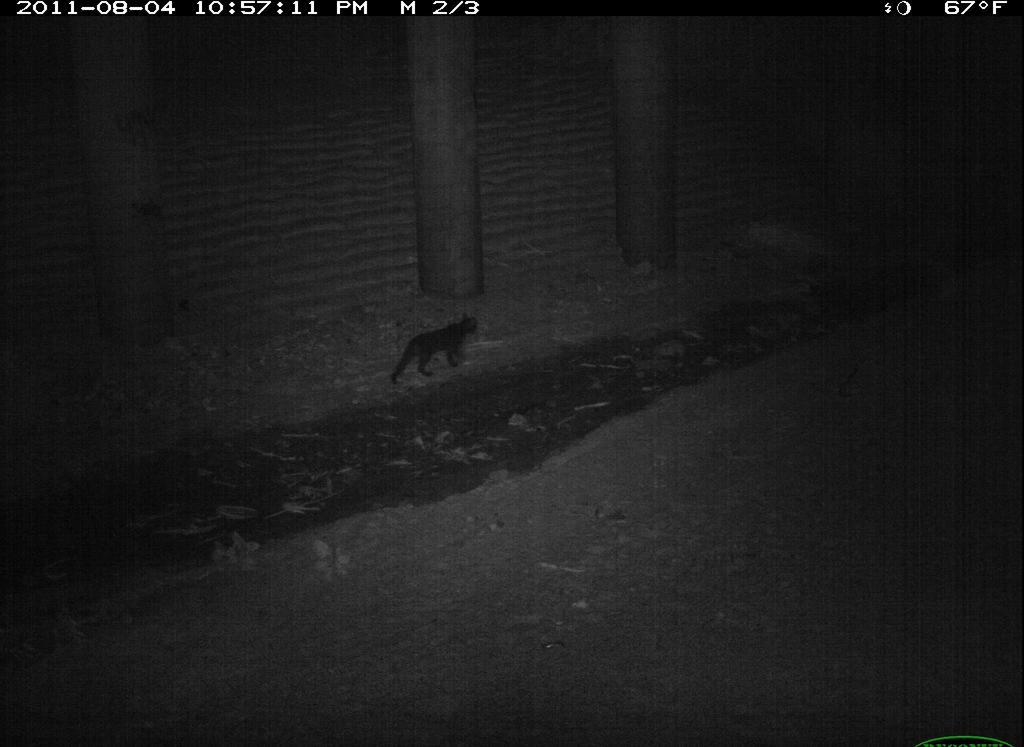cat: (769, 614, 971, 747)
